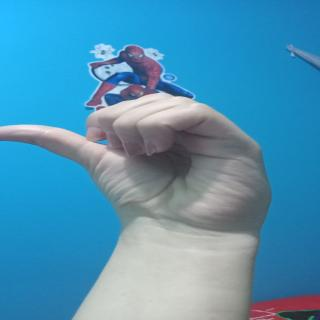WAW: (8, 87, 286, 241)
